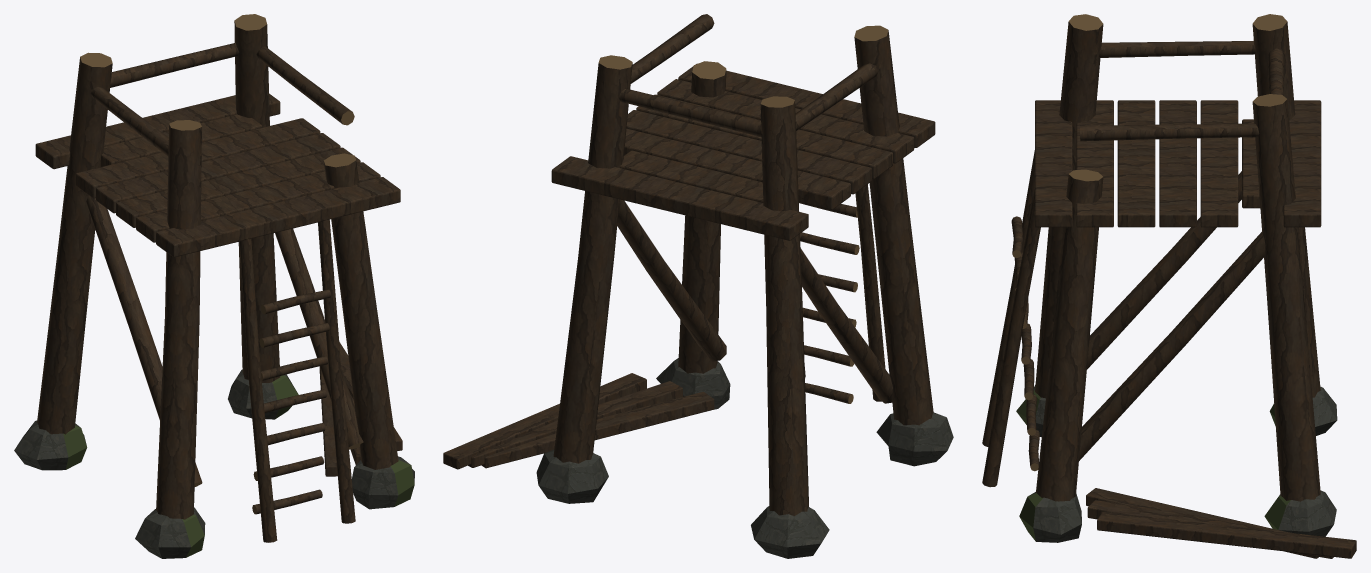
The picture shows the model from 3 angles, left to right: view 1: azimuth 30°, elevation 25°; view 2: azimuth 150°, elevation 25°; view 3: azimuth 270°, elevation 25°; orthographic projection. The views are drawn at different scales.
Visible parts, largest first — view 1: Splayed lookout support; view 2: Splayed lookout support; view 3: Splayed lookout support.
Part boxes in pixels (box(x1,y1,x2,y2)): Splayed lookout support: box(14, 14, 414, 558); Splayed lookout support: box(443, 14, 953, 558); Splayed lookout support: box(982, 14, 1356, 558).
Bounding box in the file's own units: 5.4 × 6.15 × 4.97.
Materials: 4 (2 with a texture image).
